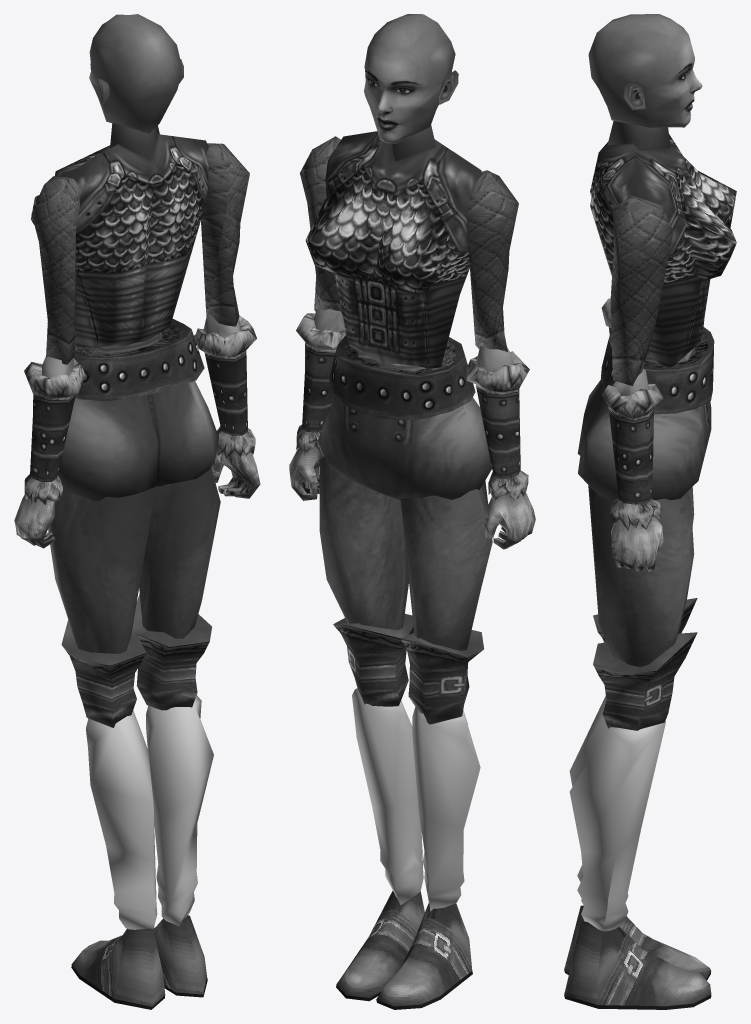
File: Sendy_Body.obj
3 renders of one model, left to right at view 1: azimuth 30°, elevation 25°; view 2: azimuth 150°, elevation 25°; view 3: azimuth 270°, elevation 25°, orthographic.
Parts seen in each view (by area): view 1: pfh0_chest032g, pfh0_legl096g, pfh0_legr096g, pfh0_pelvis065g, pfh0_shinl094g, pfh0_shinr094g, pfh0_head080g, pfh0_bicepl019g, pfh0_belt069g, pfh0_bicepr019g, pfh0_forel042g, pfh0_forer042g (+5 smaller); view 2: pfh0_chest032g, pfh0_legl096g, pfh0_legr096g, pfh0_pelvis065g, pfh0_shinl094g, pfh0_shinr094g, pfh0_head080g, pfh0_belt069g, pfh0_bicepl019g, pfh0_forel042g, pfh0_footl084g, pfh0_footr084g (+5 smaller); view 3: pfh0_legr096g, pfh0_chest032g, pfh0_shinr094g, pfh0_head080g, pfh0_bicepr019g, pfh0_footr084g, pfh0_pelvis065g, pfh0_forer042g, pfh0_belt069g, pfh0handr001, pfh0_footl084g, pfh0_neck001g (+2 smaller).
Part boxes in pixels (x1,y1,x2,y2): pfh0_chest032g: [31, 134, 208, 347]; pfh0_legl096g: [48, 485, 154, 727]; pfh0_legr096g: [132, 467, 220, 710]; pfh0_pelvis065g: [58, 332, 218, 501]; pfh0_shinl094g: [86, 710, 157, 929]; pfh0_shinr094g: [146, 695, 213, 926]; pfh0_head080g: [89, 14, 183, 133]; pfh0_bicepl019g: [31, 176, 80, 364]; pfh0_belt069g: [73, 318, 204, 401]; pfh0_bicepr019g: [201, 143, 249, 326]; pfh0_forel042g: [24, 356, 86, 504]; pfh0_forer042g: [194, 314, 256, 458]; pfh0_chest032g: [305, 131, 482, 367]; pfh0_legl096g: [400, 480, 492, 724]; pfh0_legr096g: [319, 456, 414, 706]; pfh0_pelvis065g: [317, 351, 492, 500]; pfh0_shinl094g: [412, 707, 480, 911]; pfh0_shinr094g: [352, 688, 423, 904]; pfh0_head080g: [364, 14, 458, 143]; pfh0_belt069g: [329, 334, 475, 420]; pfh0_bicepl019g: [466, 170, 518, 351]; pfh0_forel042g: [466, 346, 529, 501]; pfh0_footl084g: [376, 903, 472, 1009]; pfh0_footr084g: [336, 891, 424, 1001]; pfh0_legr096g: [588, 485, 697, 730]; pfh0_chest032g: [590, 134, 736, 366]; pfh0_shinr094g: [569, 721, 665, 931]; pfh0_head080g: [588, 14, 702, 127]; pfh0_bicepr019g: [610, 195, 673, 386]; pfh0_footr084g: [564, 921, 711, 1009]; pfh0_pelvis065g: [577, 347, 711, 501]; pfh0_forer042g: [601, 368, 663, 530]; pfh0_belt069g: [600, 327, 714, 414]; pfh0handr001: [610, 516, 663, 571]; pfh0_footl084g: [564, 905, 711, 980]; pfh0_neck001g: [607, 121, 670, 150].
Bounding box in the file's own units: 0.5044 × 1.94 × 0.3136.
